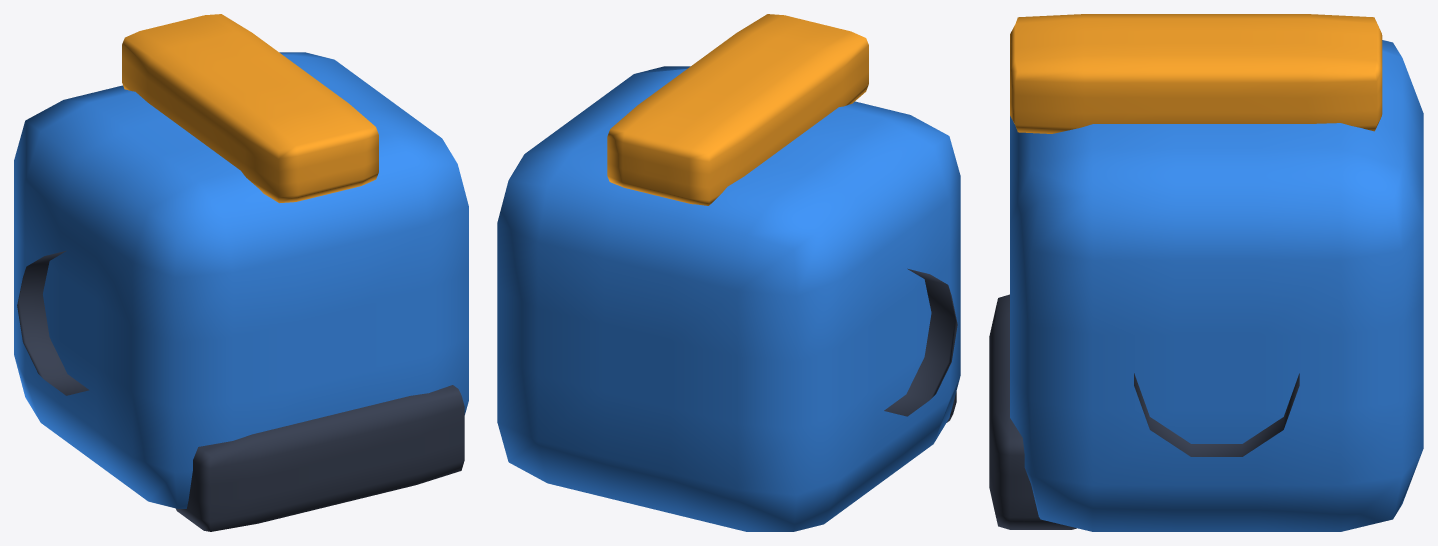
File: head_classic.obj
The picture shows the model from 3 angles, left to right: view 1: azimuth 30°, elevation 25°; view 2: azimuth 150°, elevation 25°; view 3: azimuth 270°, elevation 25°; orthographic projection. The views are drawn at different scales.
Bounding box in the file's own units: 0.5 × 0.46 × 0.42.
